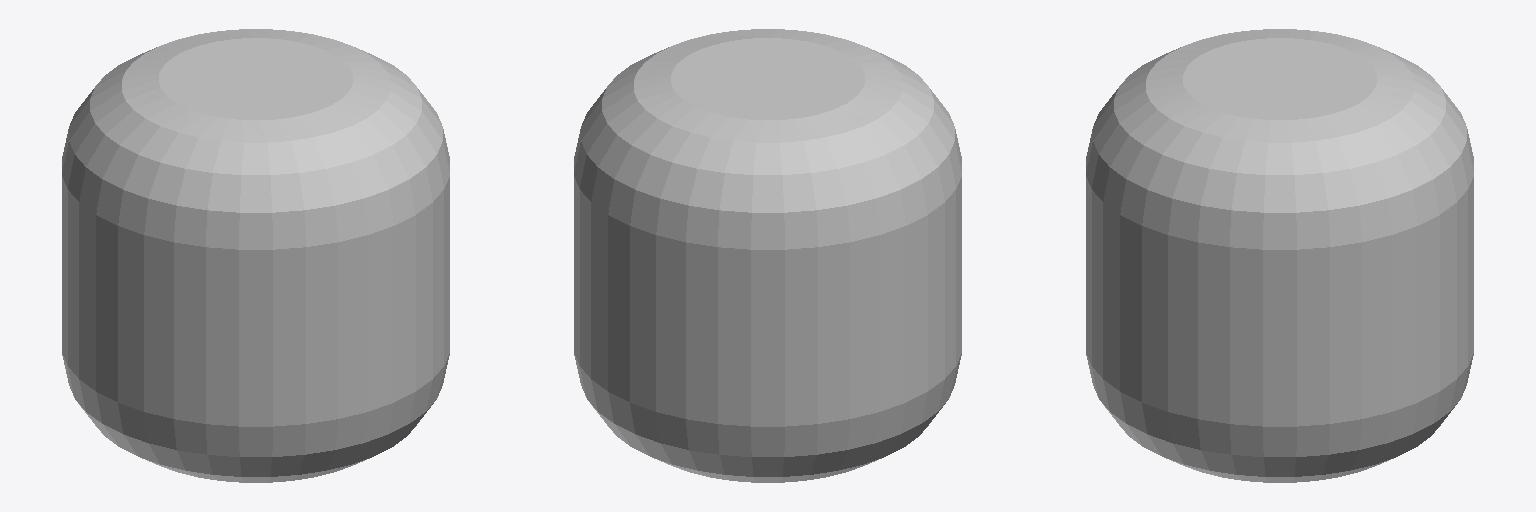
Rendered from head.obj.
3 renders of one model, left to right at view 1: azimuth 30°, elevation 25°; view 2: azimuth 150°, elevation 25°; view 3: azimuth 270°, elevation 25°, orthographic.
Parts seen in each view (by area): view 1: Opdavi11; view 2: Opdavi11; view 3: Opdavi11.
Boxes of the visible parts, x1=… form: Opdavi11: x1=62, y1=29, x2=449, y2=482; Opdavi11: x1=574, y1=29, x2=961, y2=482; Opdavi11: x1=1086, y1=29, x2=1473, y2=482.
Bounding box in the file's own units: 1.2 × 1.2 × 1.2.